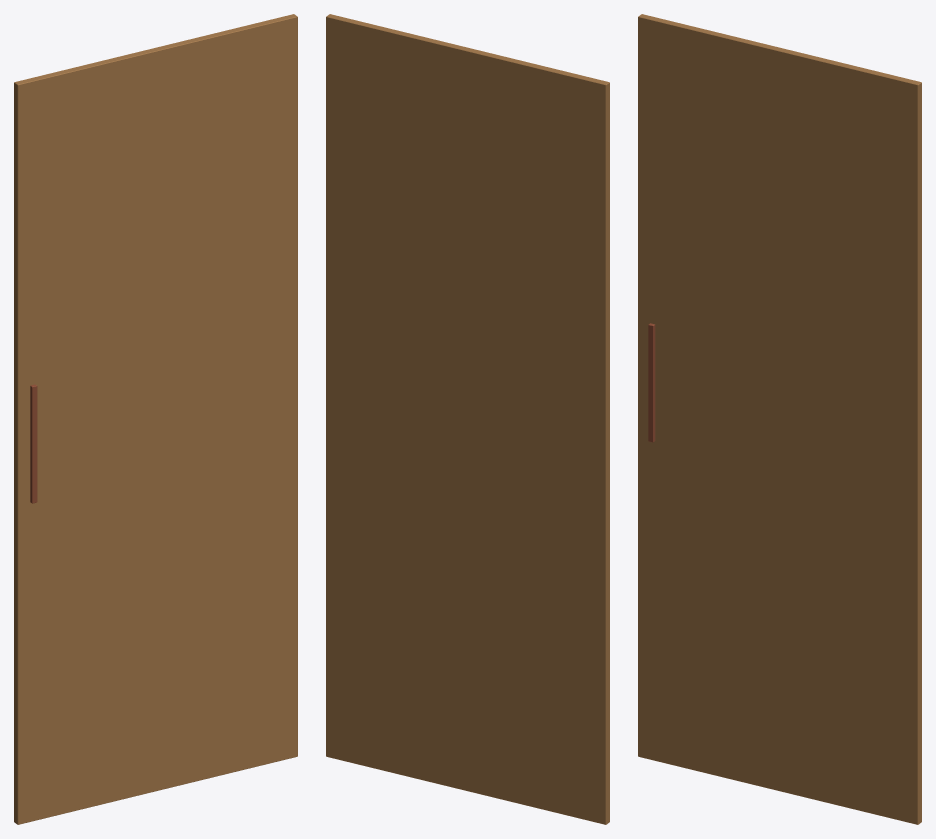
File: sliding_door_wardrobe_left_door.glb
3 views of the same model, side by side, from view 1: azimuth 30°, elevation 25°; view 2: azimuth 150°, elevation 25°; view 3: azimuth 330°, elevation 25° (orthographic).
Visible parts, largest first — view 1: sliding_door_wardrobe_left_door.001; view 2: sliding_door_wardrobe_left_door.001; view 3: sliding_door_wardrobe_left_door.001.
Part boxes in pixels (x1,y1,x2,y2): sliding_door_wardrobe_left_door.001: (14,14,297,824); sliding_door_wardrobe_left_door.001: (326,14,609,824); sliding_door_wardrobe_left_door.001: (638,14,921,824).
Bounding box in the file's own units: 0.752 × 1.9 × 0.028.
